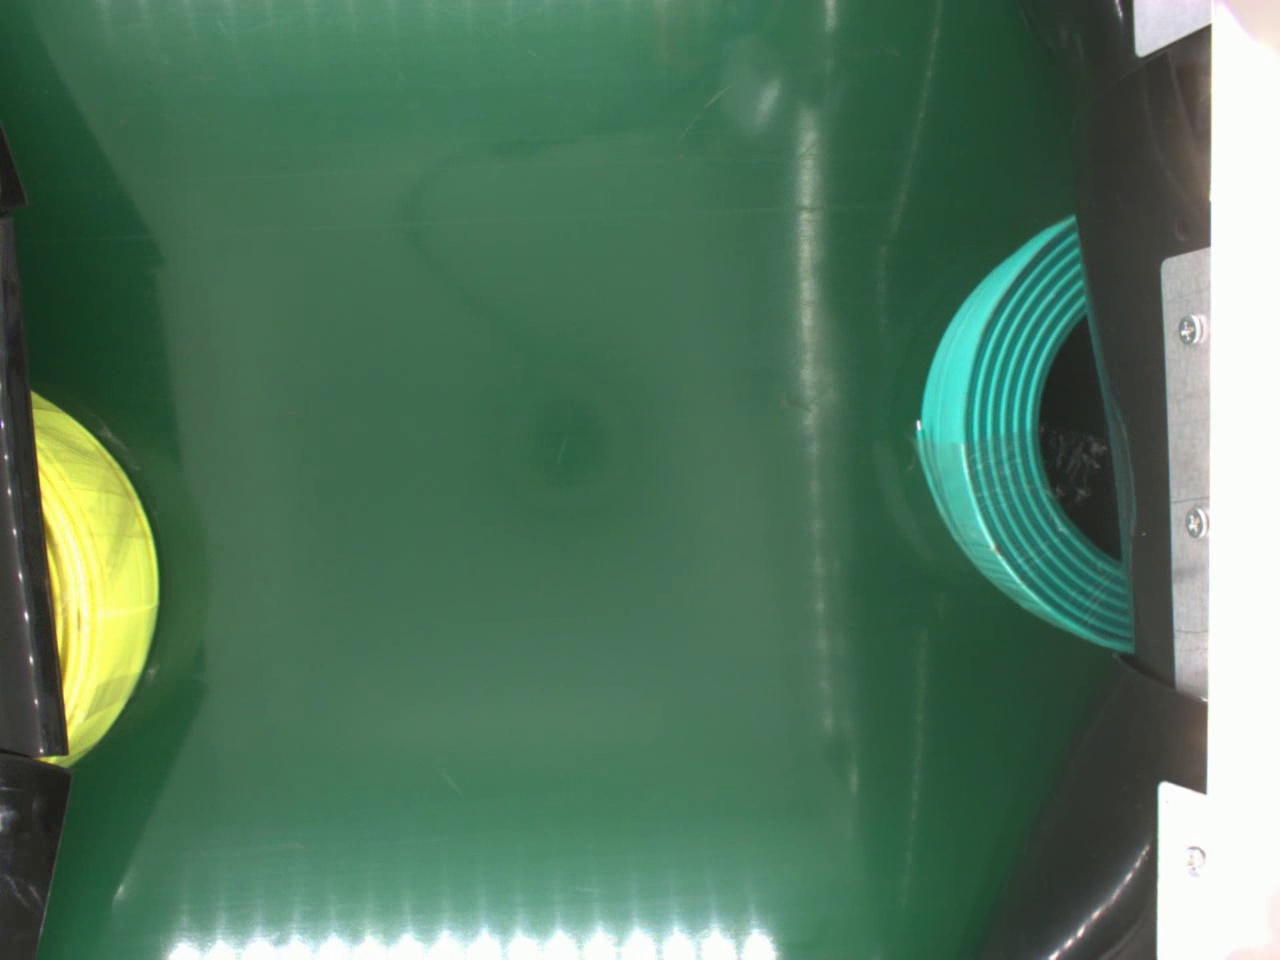green: (911, 207, 1140, 658)
